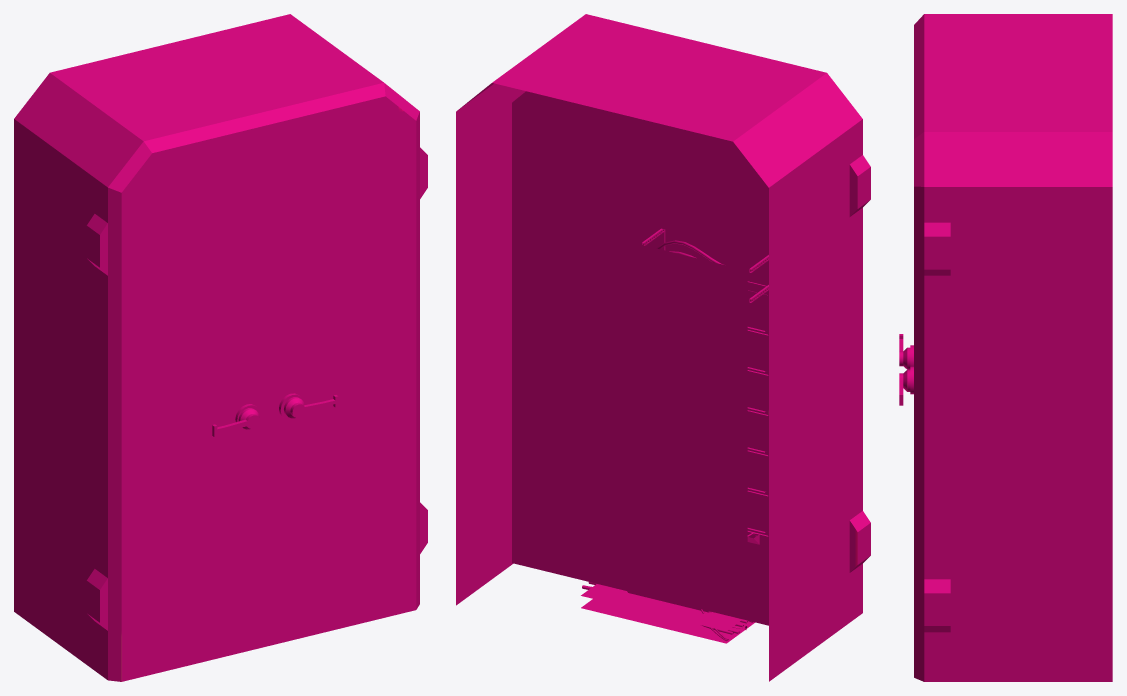
Rendered from Switchboard.fbx.
The picture shows the model from 3 angles, left to right: view 1: azimuth 30°, elevation 25°; view 2: azimuth 150°, elevation 25°; view 3: azimuth 270°, elevation 25°; orthographic projection.
Visible parts, largest first — view 1: LP_switchboarrd.054, LP_switchboarrd.049, LP_switchboarrd.001, LP_switchboarrd.055; view 2: LP_switchboarrd.001, LP_switchboarrd.012, LP_switchboarrd.017, LP_switchboarrd.016, LP_switchboarrd.015, LP_switchboarrd.013, LP_switchboarrd.014, LP_switchboarrd.018; view 3: LP_switchboarrd.001, LP_switchboarrd.049, LP_switchboarrd.054.
Boxes of the visible parts, x1,y1,x2,y2 form: LP_switchboarrd.054: (108, 112, 268, 681); LP_switchboarrd.049: (264, 83, 419, 645); LP_switchboarrd.001: (14, 14, 427, 679); LP_switchboarrd.055: (284, 395, 338, 418); LP_switchboarrd.001: (456, 14, 870, 681); LP_switchboarrd.012: (642, 228, 768, 302); LP_switchboarrd.017: (747, 331, 768, 375); LP_switchboarrd.016: (747, 371, 768, 415); LP_switchboarrd.015: (747, 411, 768, 456); LP_switchboarrd.013: (747, 491, 768, 536); LP_switchboarrd.014: (747, 451, 768, 496); LP_switchboarrd.018: (747, 290, 768, 335); LP_switchboarrd.001: (924, 14, 1112, 681); LP_switchboarrd.049: (910, 73, 924, 681); LP_switchboarrd.054: (910, 14, 924, 366).
Size of the model in its own units: 129 by 206 by 72.58.
